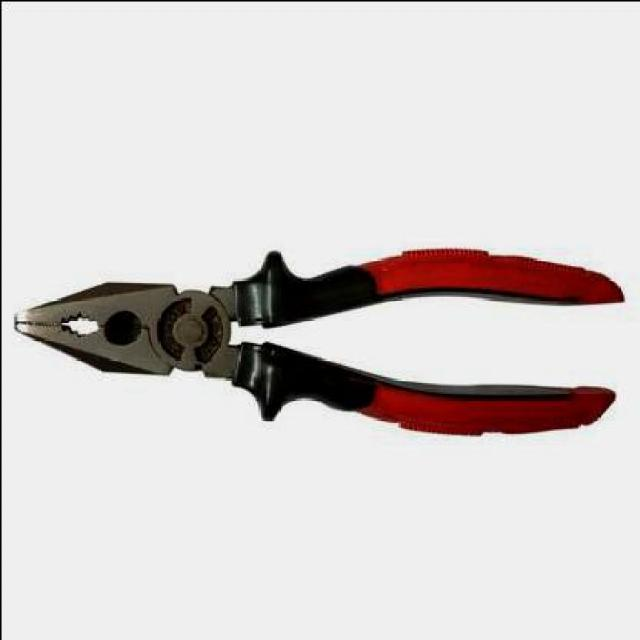pliers: (14, 244, 624, 438)
